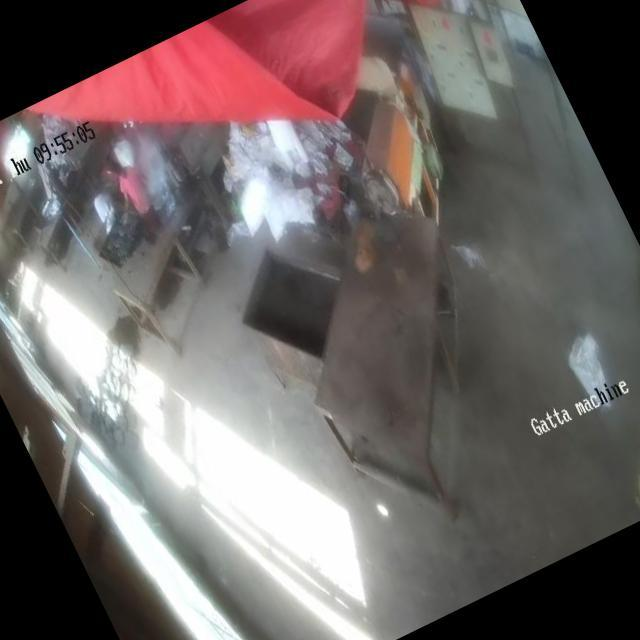person: (99, 143, 171, 241), (36, 153, 74, 204)
